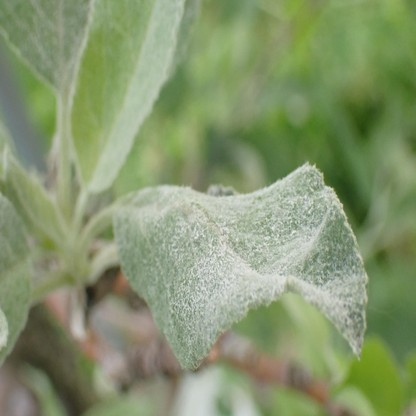powdery_mildew: (114, 161, 368, 372), (93, 0, 184, 159), (1, 0, 92, 89)
